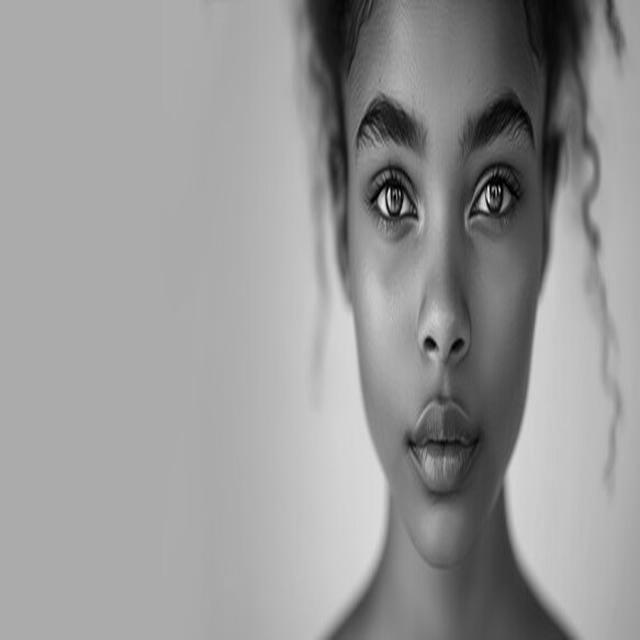Neutral: (348, 0, 544, 567)
